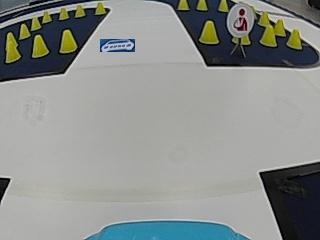cone: (199, 20, 219, 44), (5, 33, 20, 61), (60, 30, 77, 53), (32, 35, 49, 57), (261, 26, 277, 46), (287, 28, 302, 49), (258, 11, 270, 25), (19, 23, 30, 38), (94, 2, 106, 15), (74, 4, 86, 17), (31, 16, 42, 29), (58, 7, 69, 20), (196, 0, 207, 11), (177, 0, 189, 10), (42, 11, 52, 22), (218, 0, 228, 11)
patient: (227, 3, 253, 36)
